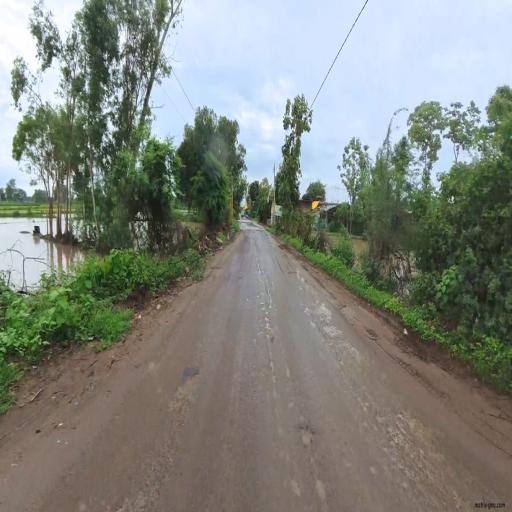longitudinal_crack: (246, 239, 288, 504)
